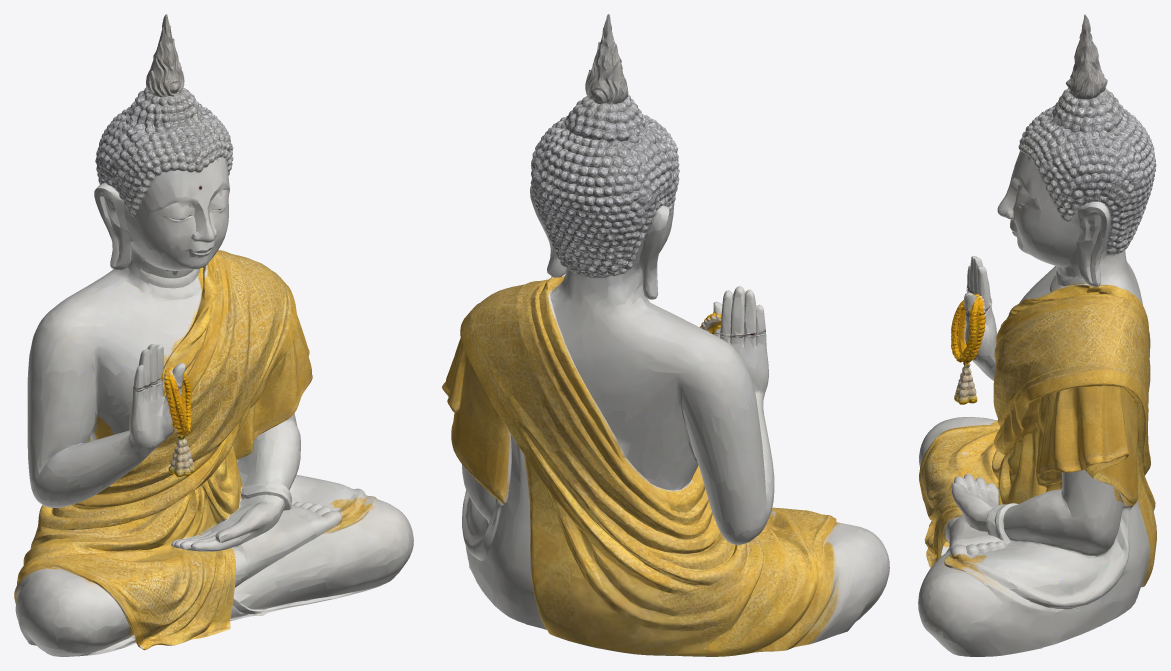
The model's file is w3hwhitebuddha.glb.
3 renders of one model, left to right at view 1: azimuth 30°, elevation 25°; view 2: azimuth 150°, elevation 25°; view 3: azimuth 270°, elevation 25°, orthographic. The views are drawn at different scales.
Visible parts, largest first — view 1: output_unwrapped; view 2: output_unwrapped; view 3: output_unwrapped.
Boxes of the visible parts, box(x1,y1,x2,y2) form: output_unwrapped: box(14, 14, 413, 656); output_unwrapped: box(442, 14, 889, 656); output_unwrapped: box(918, 14, 1156, 656).
Bounding box in the file's own units: 1.39 × 1.97 × 0.7612.
Materials: 1 (1 with a texture image).
